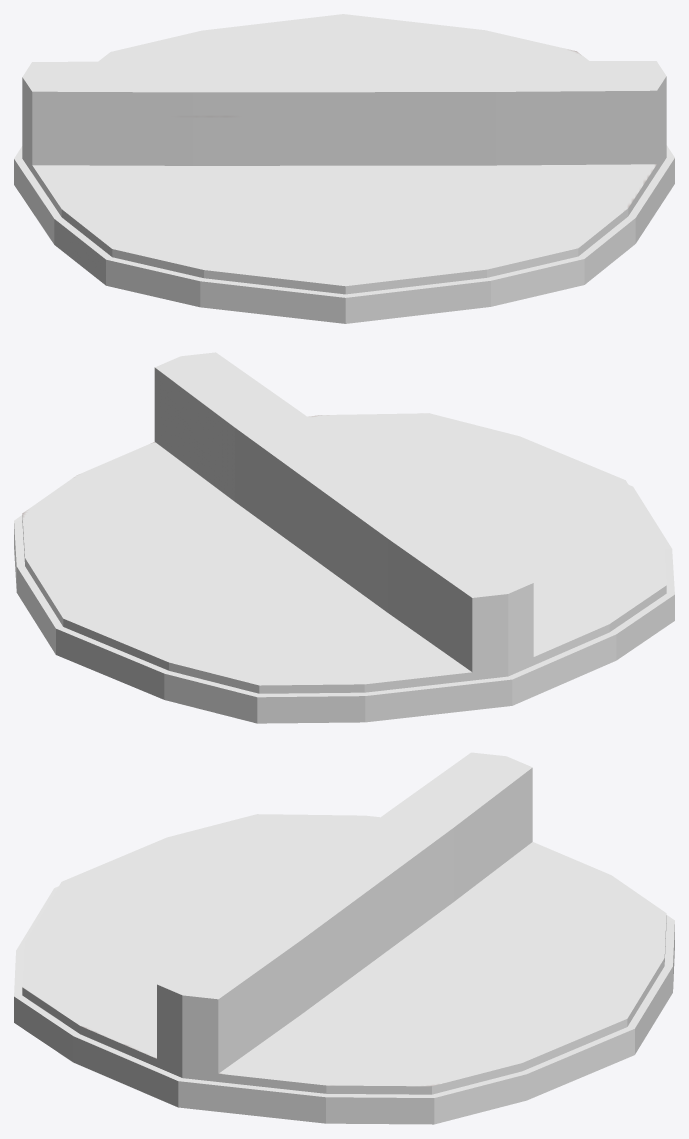
The model's file is pHI.obj.
The picture shows the model from 3 angles, top to bottom: view 1: azimuth 30°, elevation 25°; view 2: azimuth 150°, elevation 25°; view 3: azimuth 270°, elevation 25°; orthographic projection.
Parts seen in each view (by area): view 1: 立方体.004; view 2: 立方体.004; view 3: 立方体.004.
Boxes of the visible parts, x1,y1,x2,y2 form: 立方体.004: (14,14,674,323); 立方体.004: (14,352,674,723); 立方体.004: (14,752,674,1124).
Size of the model in its own units: 1.05 by 0.1919 by 1.05.
Materials: 1 (1 with a texture image).
